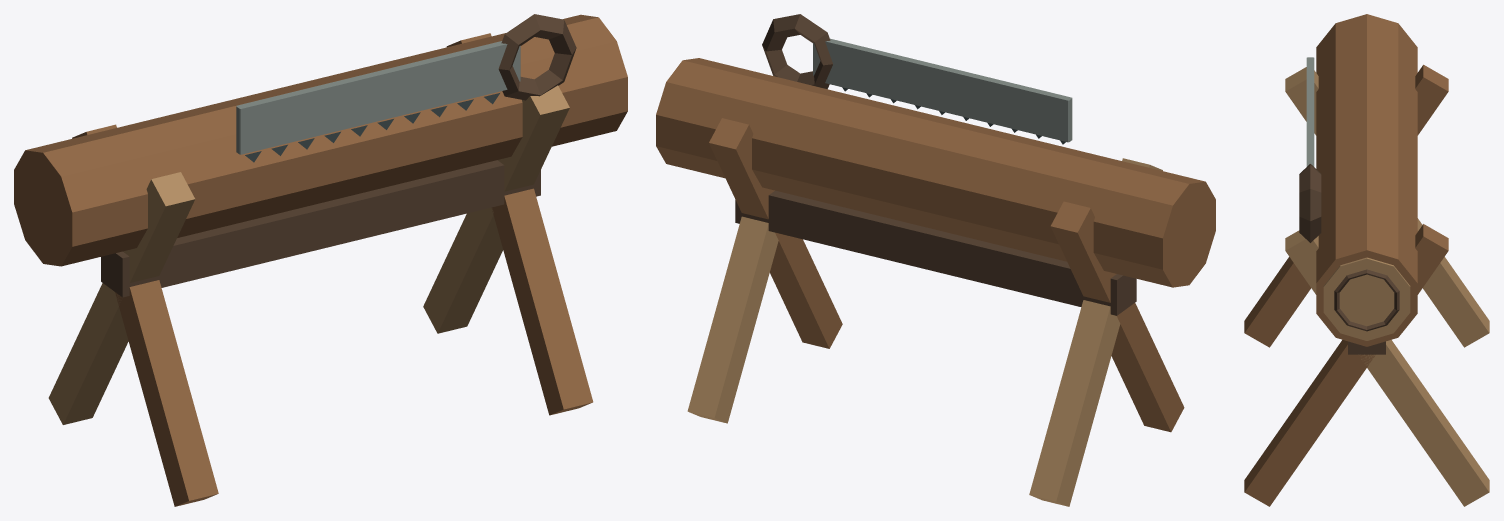
The model's file is sawhorse.glb.
3 renders of one model, left to right at view 1: azimuth 30°, elevation 25°; view 2: azimuth 150°, elevation 25°; view 3: azimuth 270°, elevation 25°, orthographic. The views are drawn at different scales.
Visible parts, largest first — view 1: geometry; view 2: geometry; view 3: geometry.
Part boxes in pixels (bbox=[...]): geometry: bbox=[14, 14, 627, 506]; geometry: bbox=[656, 14, 1215, 506]; geometry: bbox=[1244, 14, 1489, 506].
Bounding box in the file's own units: 1.8 × 1.17 × 0.7803.
